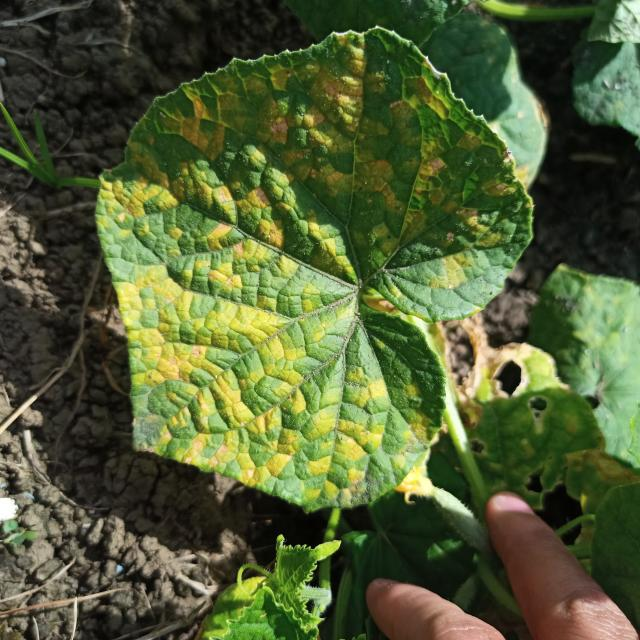disease_cucumber: (103, 35, 492, 496)
